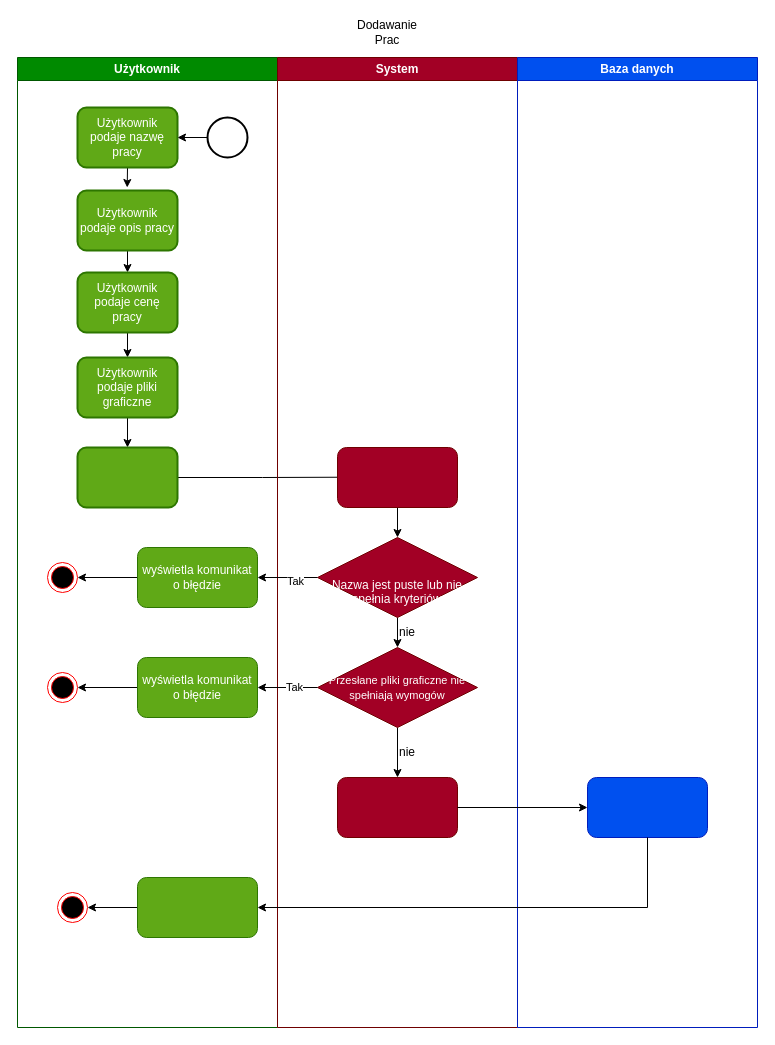
Some shapes in this 775 by 1045 pixel diagram are drawn without their labels. The centre of each missing label's shape, as x and y in pixels:
System waliduje wprowadzone dane: (x=397, y=477)
Użytkownik wysyła wypełniony formularz do systemu.: (x=127, y=477)
Wysyła dane do bazy danych: (x=397, y=807)
Wyświetla komunika o sukcesie: (x=197, y=907)
Zapiszuje dane w bazie danych: (x=647, y=807)
